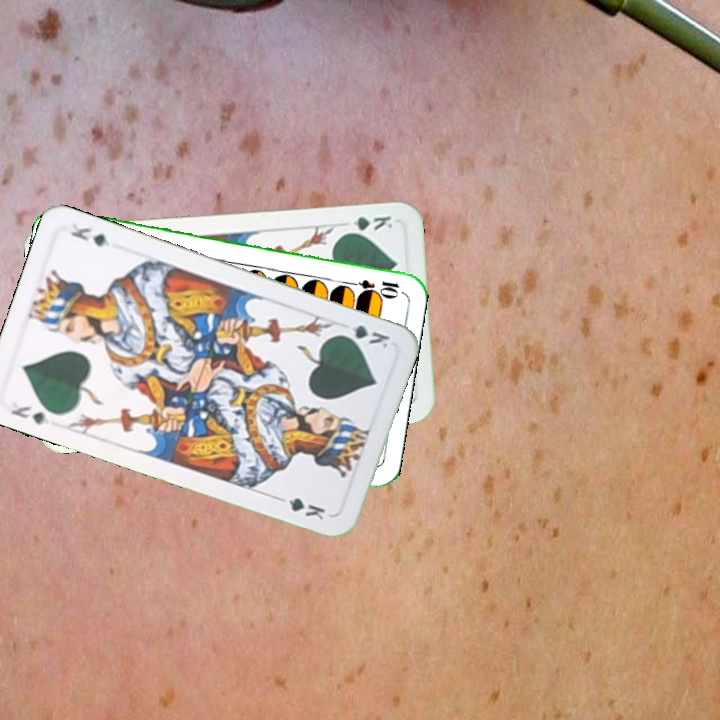E10: (342, 275, 402, 297)
GK: (334, 321, 392, 352), (7, 397, 52, 427), (339, 212, 395, 236)
